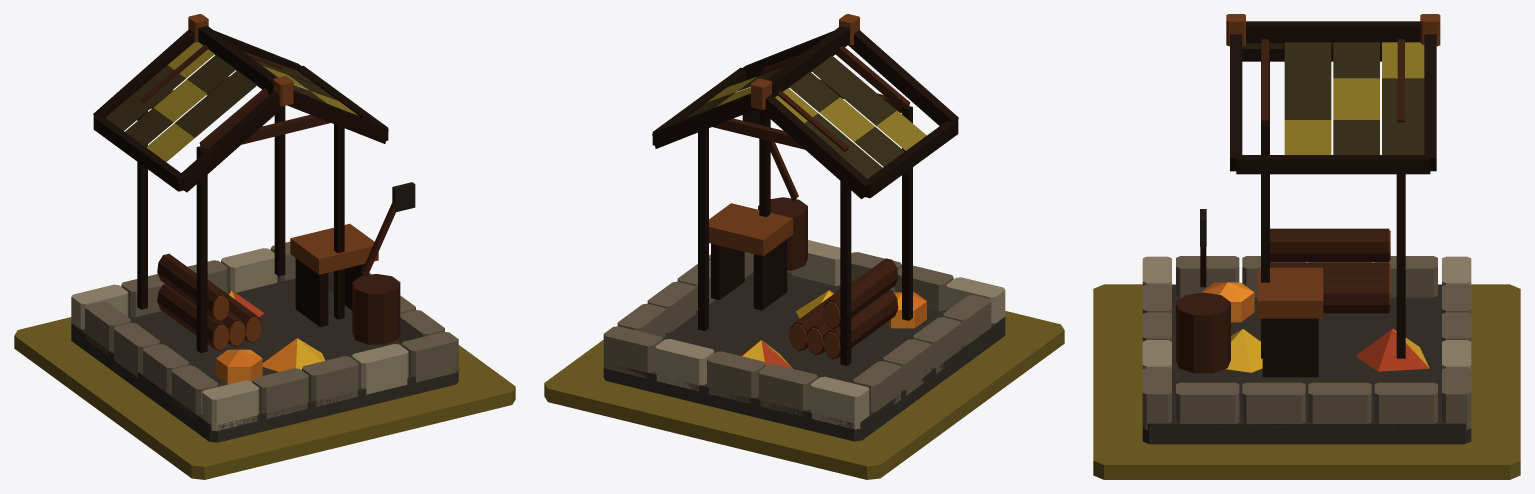
File: timber_yard_t1.glb
The picture shows the model from 3 angles, left to right: view 1: azimuth 30°, elevation 25°; view 2: azimuth 150°, elevation 25°; view 3: azimuth 270°, elevation 25°; orthographic projection. The views are drawn at different scales.
Parts seen in each view (by area): view 1: MMR | timber_yard | T01 Architecture.001, MMR | timber_yard | Tier 01 Ground.001, MMR | timber_yard | T01 Autumn Dressing.001; view 2: MMR | timber_yard | T01 Architecture.001, MMR | timber_yard | Tier 01 Ground.001, MMR | timber_yard | T01 Autumn Dressing.001; view 3: MMR | timber_yard | T01 Architecture.001, MMR | timber_yard | Tier 01 Ground.001, MMR | timber_yard | T01 Autumn Dressing.001.
Boxes of the visible parts, x1,y1,x2,y2 form: MMR | timber_yard | T01 Architecture.001: [71, 14, 458, 442]; MMR | timber_yard | Tier 01 Ground.001: [14, 317, 515, 479]; MMR | timber_yard | T01 Autumn Dressing.001: [216, 290, 325, 384]; MMR | timber_yard | T01 Architecture.001: [603, 14, 1005, 441]; MMR | timber_yard | Tier 01 Ground.001: [544, 311, 1064, 479]; MMR | timber_yard | T01 Autumn Dressing.001: [739, 290, 926, 368]; MMR | timber_yard | T01 Architecture.001: [1142, 14, 1471, 444]; MMR | timber_yard | Tier 01 Ground.001: [1093, 284, 1520, 479]; MMR | timber_yard | T01 Autumn Dressing.001: [1201, 282, 1429, 372].
Size of the model in its own units: 1.3 by 1.22 by 1.3.
Materials: 1 (1 with a texture image).
